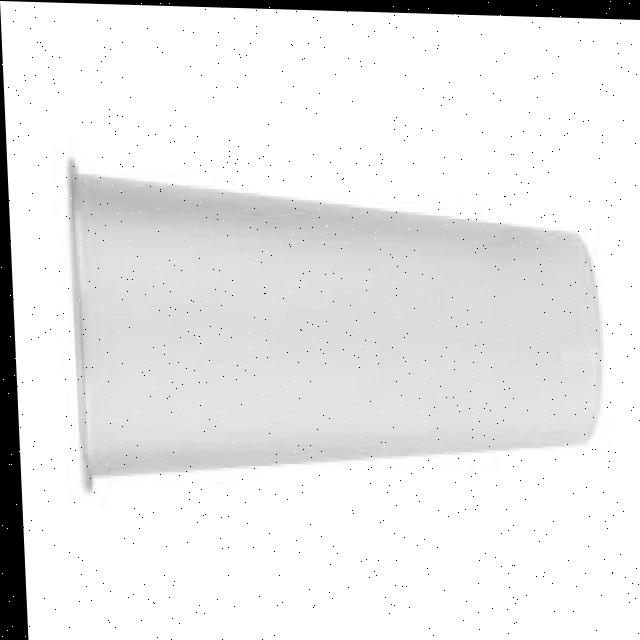cup: (46, 145, 587, 518)
